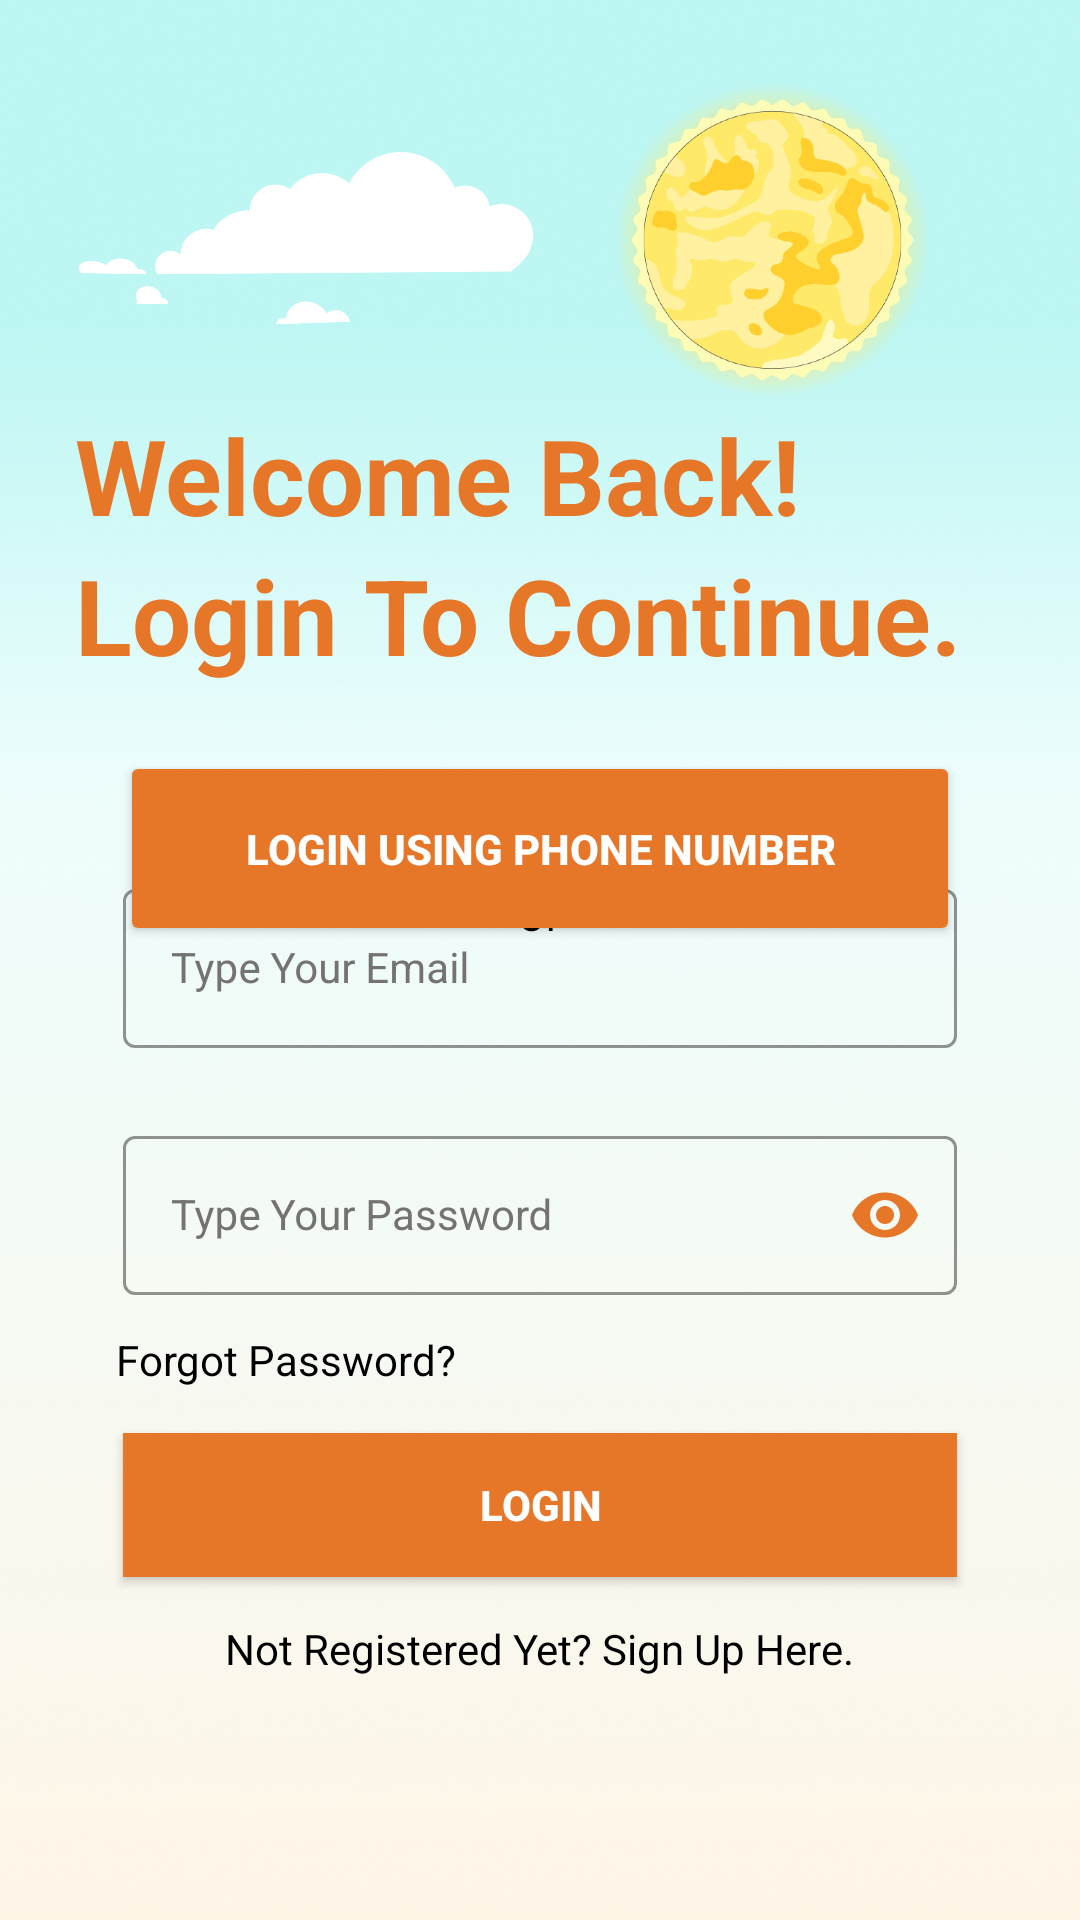

Where icons sit on this 1080 × 1920 app screen, as {"x1": x1, "y1": y1, "x2": x2, "y2": y2}:
sign login sun: {"x1": 625, "y1": 93, "x2": 920, "y2": 387}
